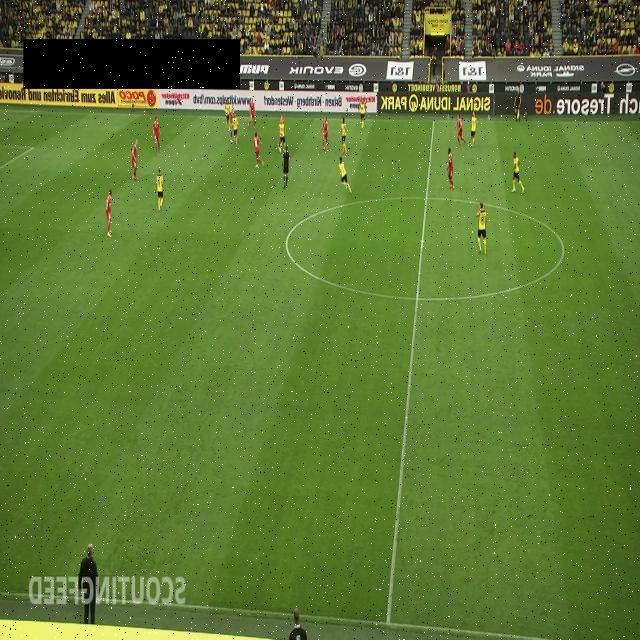Referee: (281, 144, 291, 189), (514, 90, 522, 122)
TEAM 1: (252, 130, 264, 168), (454, 114, 466, 146), (152, 116, 162, 154), (319, 116, 329, 152), (106, 188, 112, 238), (132, 138, 138, 182), (448, 147, 454, 190), (248, 98, 256, 130), (229, 105, 235, 143)
TEAM 2: (476, 202, 488, 256), (511, 150, 525, 194), (338, 156, 352, 194), (277, 115, 287, 154), (156, 168, 164, 212), (339, 116, 347, 154), (470, 110, 478, 148), (359, 99, 367, 129), (223, 98, 230, 129), (232, 111, 238, 145)
